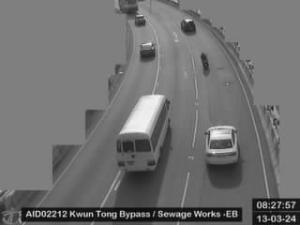bus: (116, 94, 172, 172)
motorbike: (201, 53, 209, 69)
truck: (118, 0, 138, 14)
vehicle: (204, 124, 240, 166), (140, 42, 156, 57), (180, 18, 196, 31), (134, 12, 146, 27)
